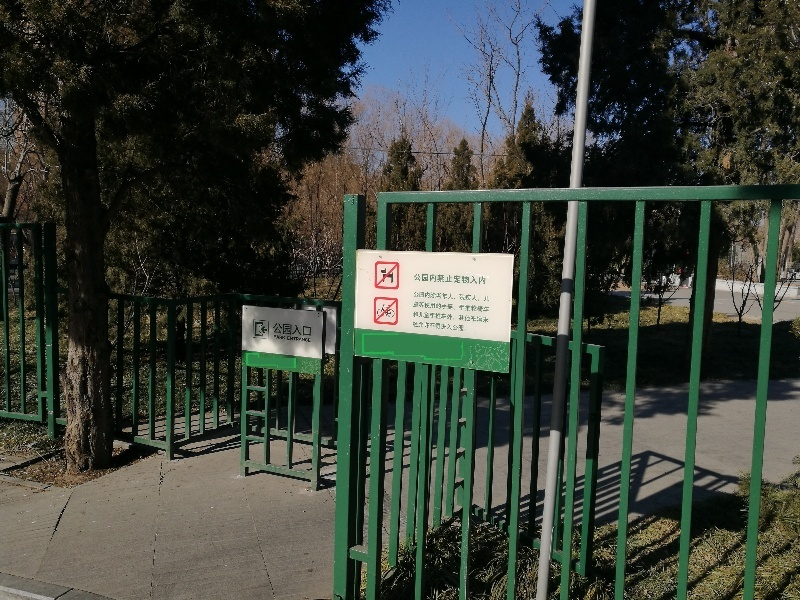text: (289, 323, 304, 337), (274, 323, 288, 337), (417, 311, 432, 324), (433, 311, 448, 324), (449, 311, 464, 324), (465, 311, 480, 324), (417, 273, 432, 285), (433, 273, 448, 285), (449, 273, 464, 285), (465, 273, 480, 285), (417, 291, 432, 303), (433, 291, 448, 303), (449, 291, 464, 303), (465, 291, 480, 303), (417, 301, 432, 313), (433, 301, 448, 313), (449, 301, 464, 313), (465, 301, 480, 313), (417, 321, 432, 332), (433, 321, 448, 332), (449, 321, 464, 332), (481, 311, 491, 324), (481, 291, 491, 303), (481, 301, 490, 313), (289, 336, 304, 343), (305, 323, 312, 337), (481, 273, 487, 285), (274, 335, 288, 340), (305, 336, 312, 343), (413, 311, 416, 324), (413, 321, 416, 332), (465, 321, 468, 332), (414, 291, 416, 303), (414, 301, 416, 313), (415, 273, 416, 285), (287, 336, 288, 343)
